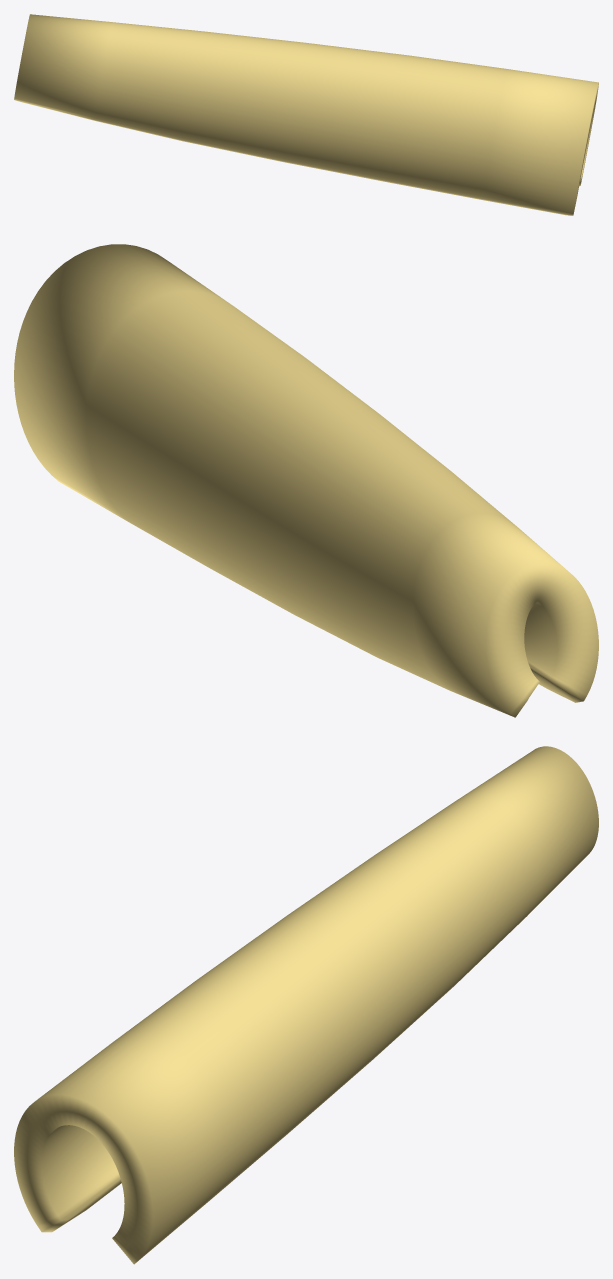
3 renders of one model, top to bottom at view 1: azimuth 30°, elevation 25°; view 2: azimuth 150°, elevation 25°; view 3: azimuth 270°, elevation 25°, orthographic. The views are drawn at different scales.
Visible parts, largest first — view 1: ZA_5e39e8a81fab1f9d; view 2: ZA_5e39e8a81fab1f9d; view 3: ZA_5e39e8a81fab1f9d.
Boxes of the visible parts, x1=… form: ZA_5e39e8a81fab1f9d: x1=14, y1=14, x2=598, y2=215; ZA_5e39e8a81fab1f9d: x1=14, y1=244, x2=598, y2=717; ZA_5e39e8a81fab1f9d: x1=14, y1=746, x2=598, y2=1264.
Size of the model in its own units: 0.0215 by 0.00746 by 0.0169.
